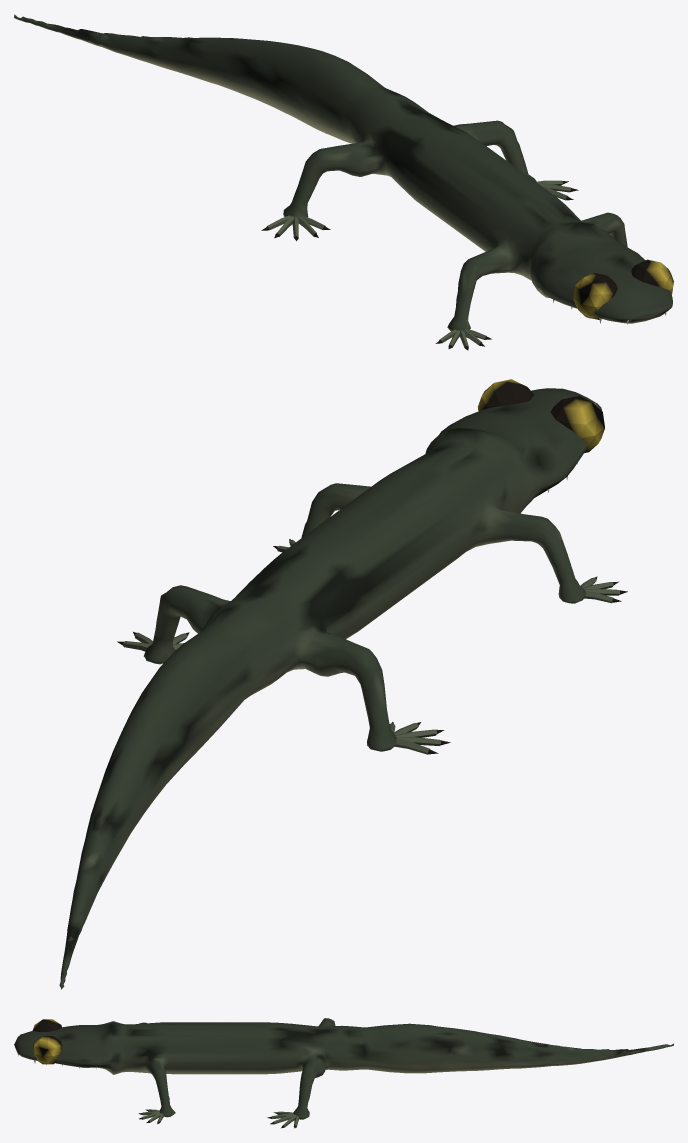
Rendered from Eucritta.fbx.
3 renders of one model, top to bottom at view 1: azimuth 30°, elevation 25°; view 2: azimuth 150°, elevation 25°; view 3: azimuth 270°, elevation 25°, orthographic. The views are drawn at different scales.
Visible parts, largest first — view 1: Eucritta; view 2: Eucritta; view 3: Eucritta.
Boxes of the visible parts, bbox=[...] form: Eucritta: bbox=[14, 14, 673, 350]; Eucritta: bbox=[59, 379, 627, 989]; Eucritta: bbox=[14, 1018, 673, 1128].
Size of the model in its own units: 0.3304 by 0.1106 by 1.06.
